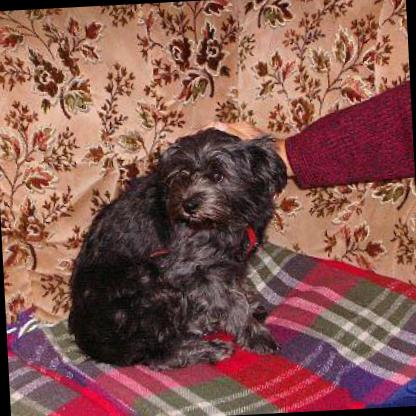affenpinscher: (56, 113, 294, 374)
